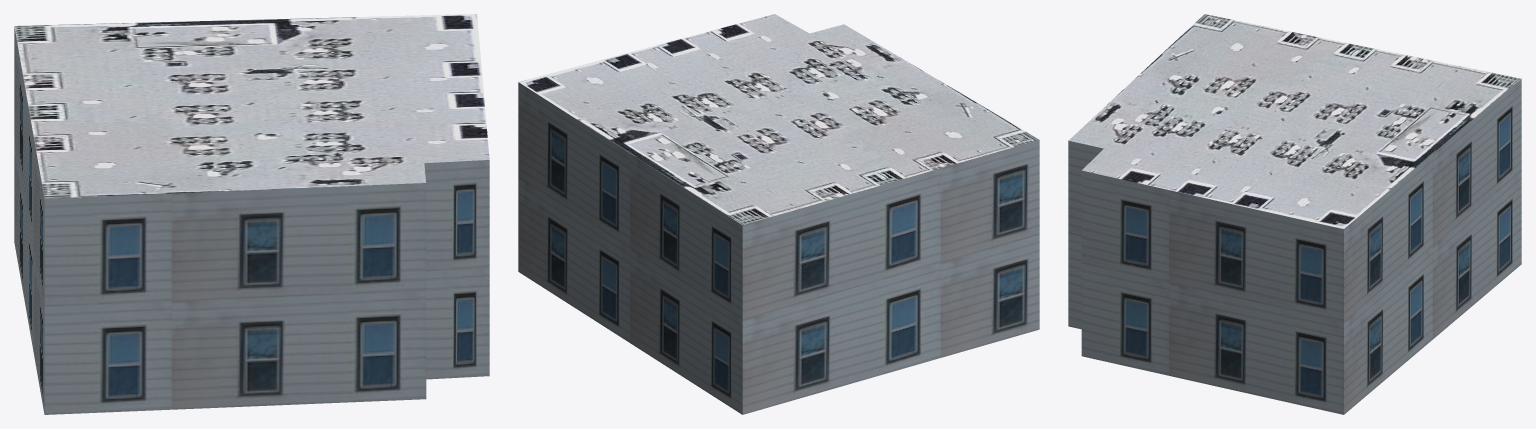
Rendered from ResTex__999.fbx.
3 views of the same model, side by side, from view 1: azimuth 30°, elevation 25°; view 2: azimuth 150°, elevation 25°; view 3: azimuth 270°, elevation 25° (orthographic). The views are drawn at different scales.
Visible parts, largest first — view 1: CityEngineMaterial_18_m, CityEngineMaterial_8_m; view 2: CityEngineMaterial_18_m, CityEngineMaterial_8_m; view 3: CityEngineMaterial_18_m, CityEngineMaterial_8_m.
Boxes of the visible parts, box(x1,y1,x2,y2) form: CityEngineMaterial_18_m: box(14, 27, 489, 414); CityEngineMaterial_8_m: box(14, 14, 489, 198); CityEngineMaterial_18_m: box(518, 82, 1039, 414); CityEngineMaterial_8_m: box(518, 14, 1039, 225); CityEngineMaterial_18_m: box(1068, 79, 1521, 414); CityEngineMaterial_8_m: box(1069, 14, 1520, 228).
Size of the model in its own units: 14.91 by 6 by 13.27.
2 materials, 2 textured.
